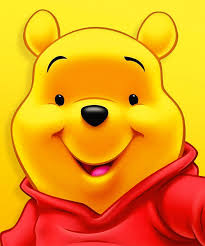Winnie: (9, 7, 188, 224)
